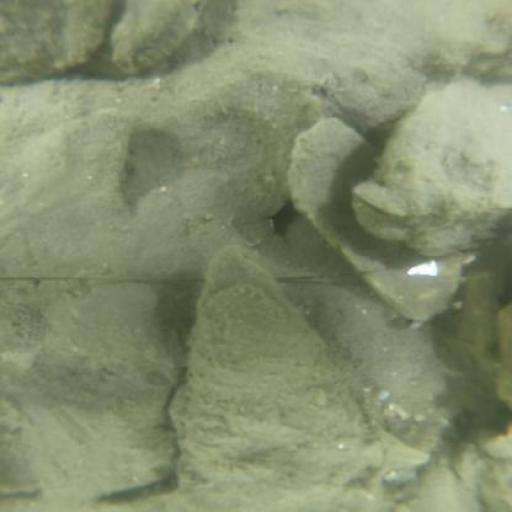Oyster-Closed: (178, 259, 373, 507), (26, 285, 176, 497), (134, 79, 316, 228), (199, 6, 427, 123), (358, 83, 511, 253), (16, 1, 112, 80), (112, 2, 198, 75), (407, 466, 481, 505)
